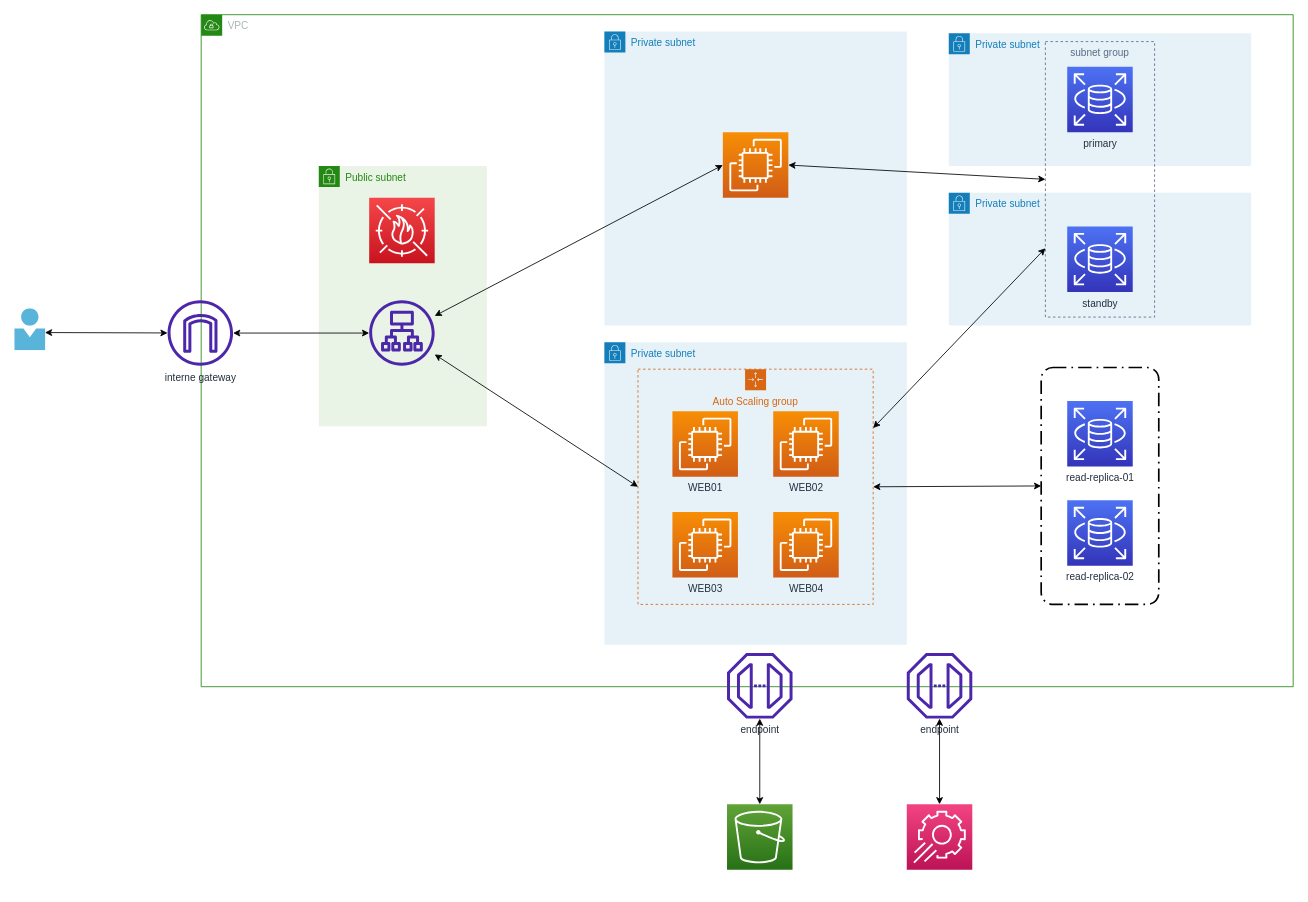
Some shapes in this 1308 by 902 pixel diagram are drawn without their labels. The centre of each missing label's shape, as x and y in pixels:
App Config: the point at 939,836
application load balancer: the point at 401,332
MANAGE01: the point at 755,164
S3: the point at 759,836
user: the point at 29,329
WAF: the point at 401,230
